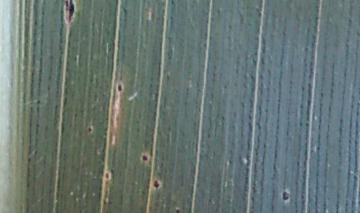tarspot: (64, 1, 74, 24), (282, 191, 290, 201), (141, 153, 149, 162), (153, 180, 160, 189), (104, 172, 111, 180), (87, 126, 93, 133), (117, 84, 122, 92), (175, 208, 182, 213)
